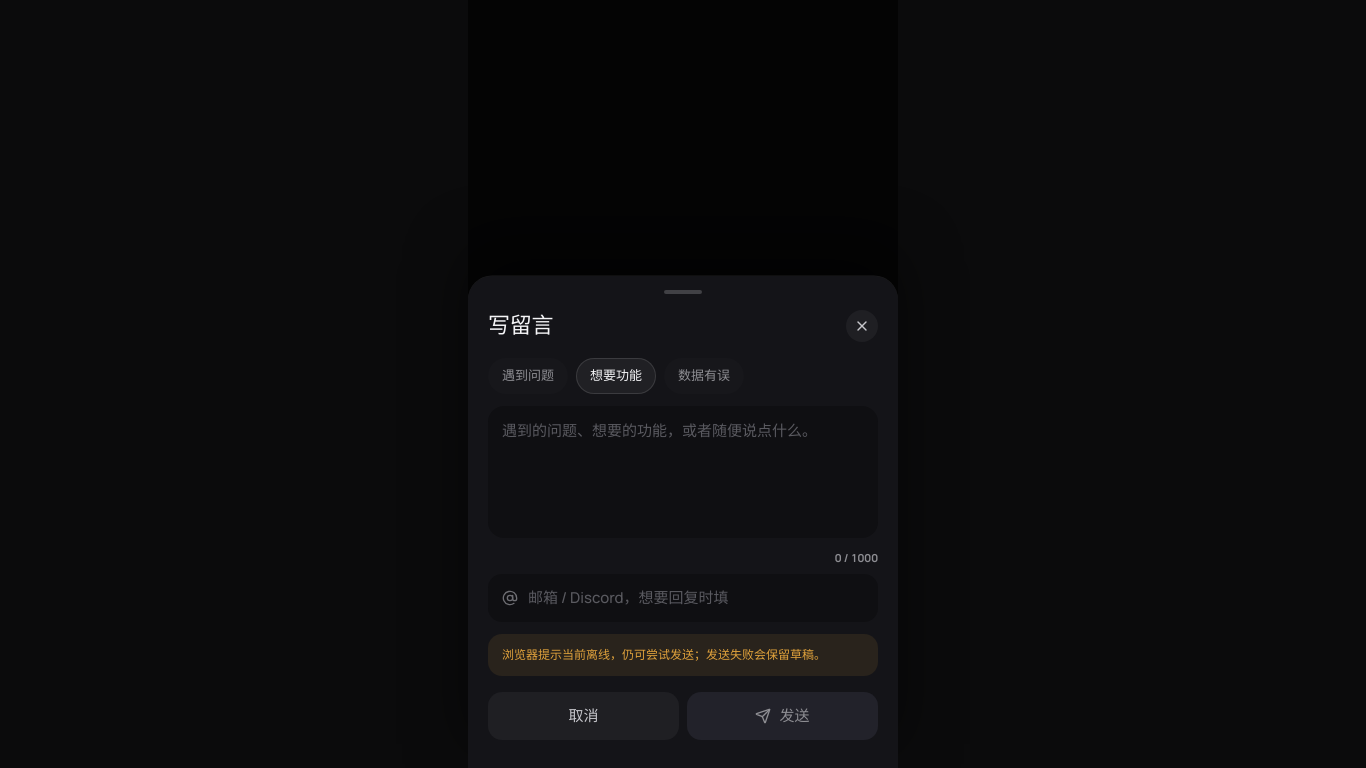
Scenario: FeedbackSheet › keeps the draft and allows retry after an actual offline request failure
In the text box named "留言内容": (683,472) [488, 406, 878, 538], type "这是一条正常长度的留言"
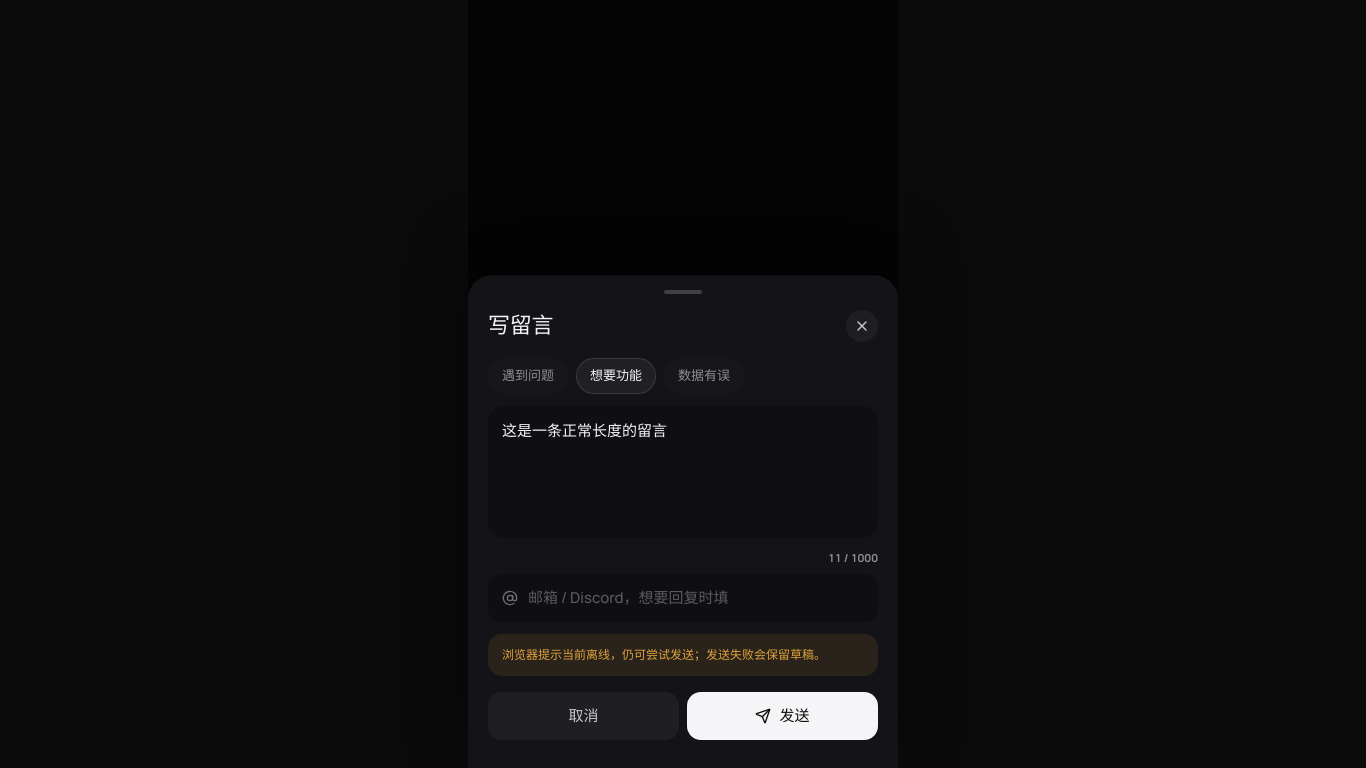
Click the button "发送": (782,716) [687, 692, 878, 740]
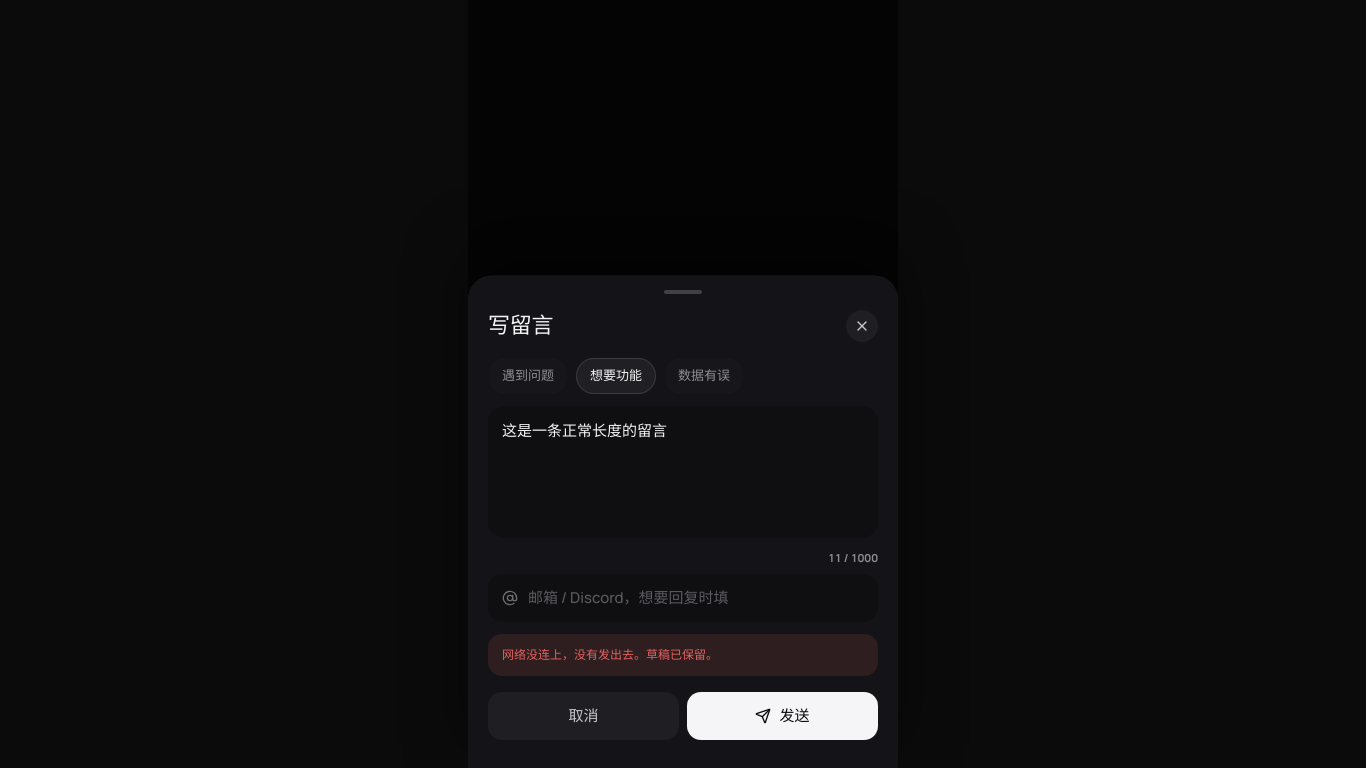
Check: the button "发送" is enabled
Check: the message reads "网络没连上，没有发出去。草稿已保留。", box [502, 646, 718, 663]
Click the button "发送": (782,716) [687, 692, 878, 740]
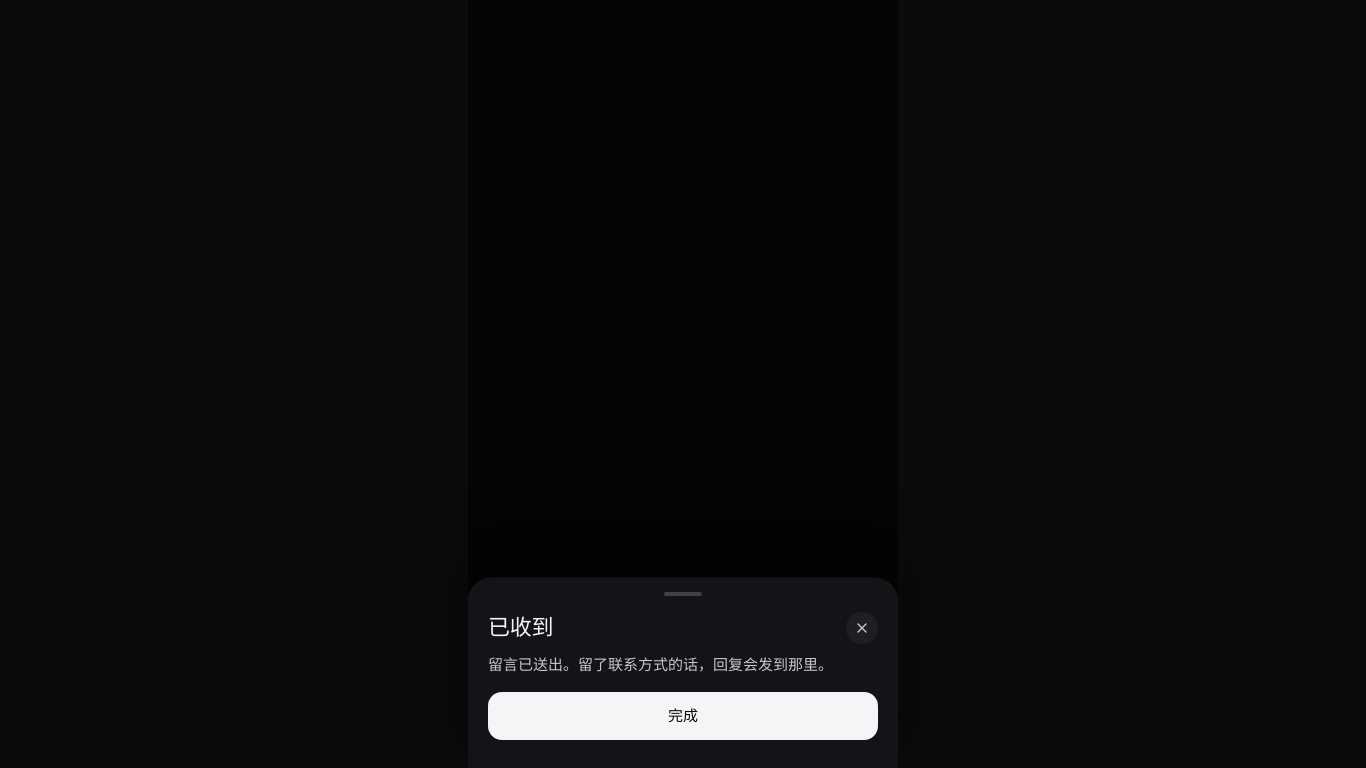
Check: the heading "已收到" is shown, box [488, 612, 553, 642]
